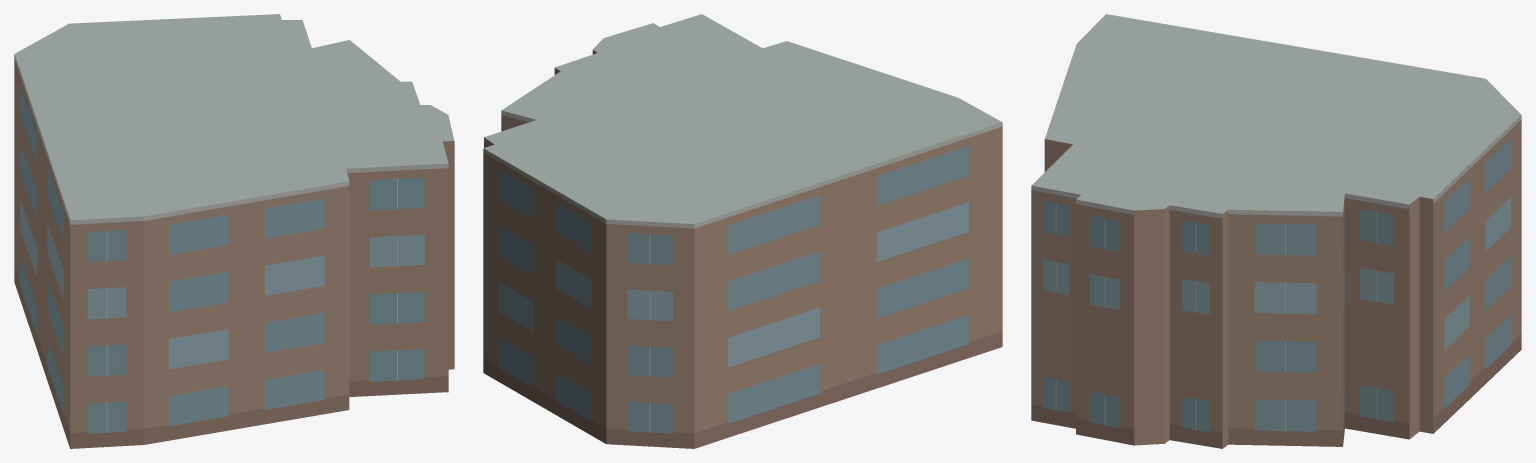
The model's file is survey-upis-32676839.glb.
3 views of the same model, side by side, from view 1: azimuth 30°, elevation 25°; view 2: azimuth 150°, elevation 25°; view 3: azimuth 270°, elevation 25° (orthographic). The views are drawn at different scales.
Visible parts, largest first — view 1: survey-upis-32676839.tmp; view 2: survey-upis-32676839.tmp; view 3: survey-upis-32676839.tmp.
Part boxes in pixels (left/top/right/bottom): survey-upis-32676839.tmp: left=14, top=14, right=454, bottom=448; survey-upis-32676839.tmp: left=483, top=14, right=1002, bottom=448; survey-upis-32676839.tmp: left=1031, top=14, right=1521, bottom=448.
Bounding box in the file's own units: 22.72 × 12.44 × 23.54.
